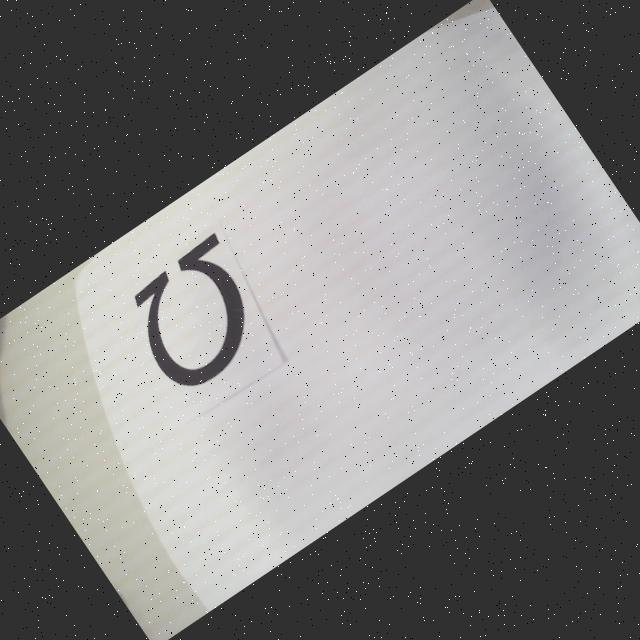OMEGA: (114, 230, 283, 400)
